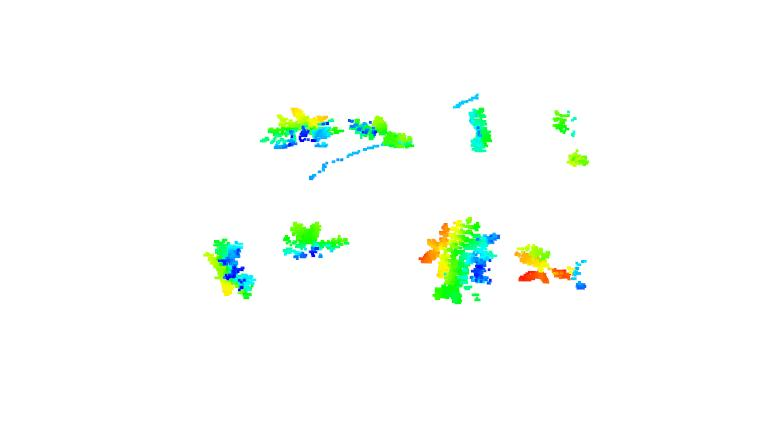chickpea: (419, 217, 501, 306), (200, 236, 257, 301), (512, 241, 588, 287), (258, 109, 346, 148), (283, 219, 350, 263), (345, 114, 416, 151), (551, 107, 589, 167), (464, 106, 495, 154)
